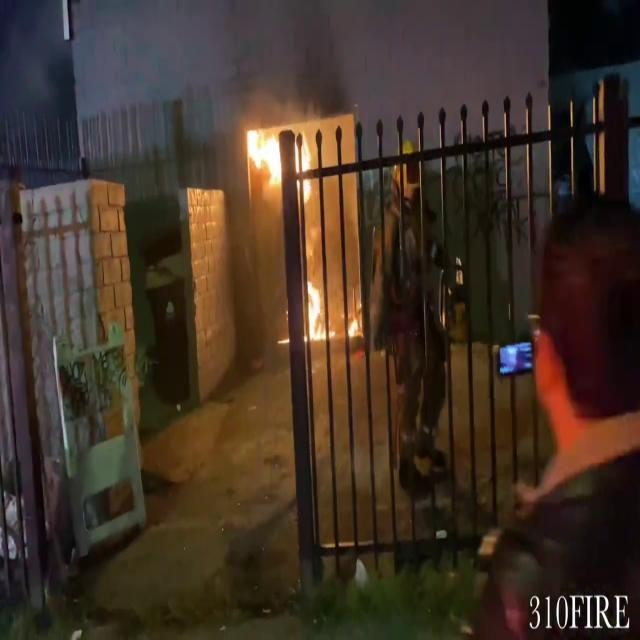Fire: (247, 121, 315, 207), (305, 274, 335, 346)
